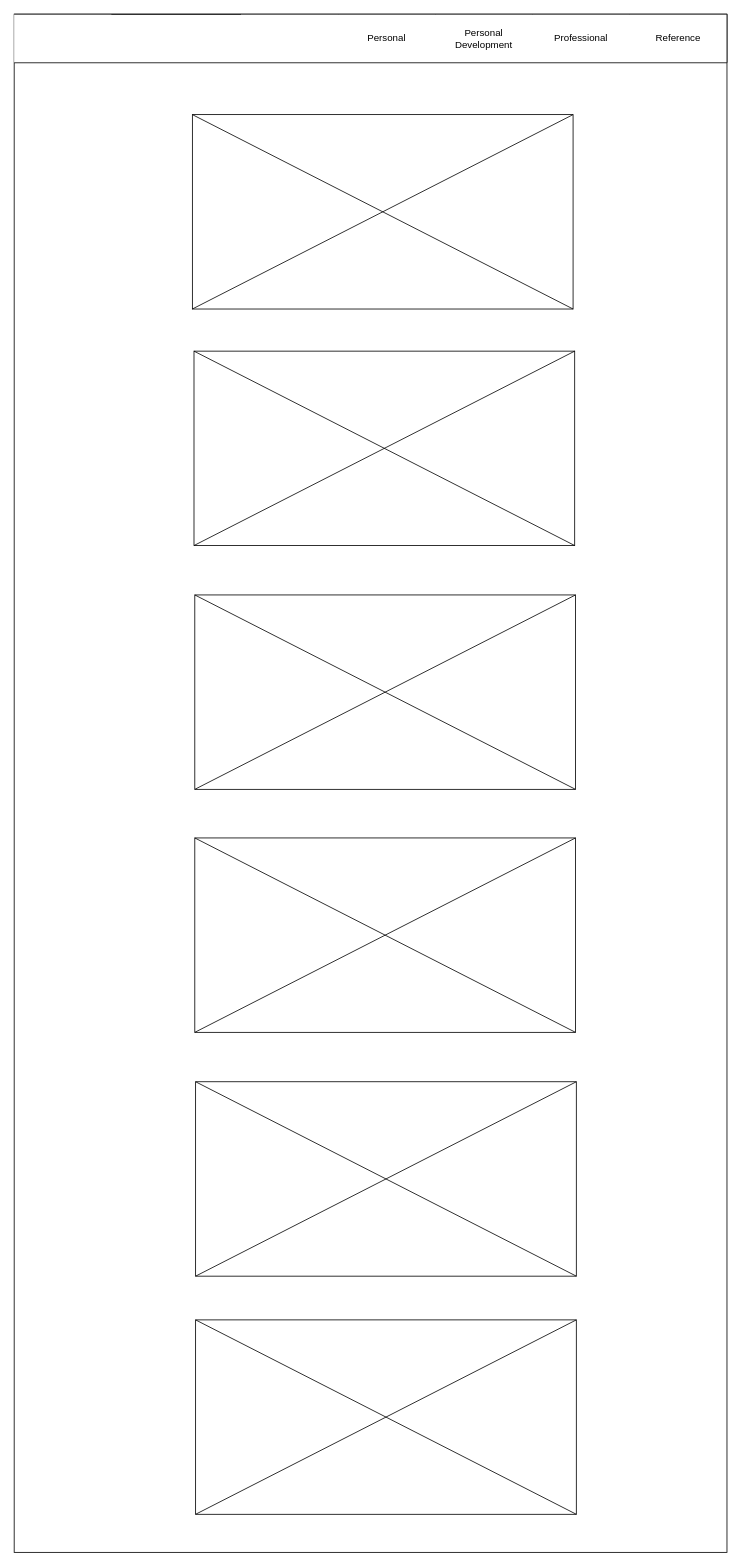
This 742x1567 diagram has some shape labels left out. Each missing label, with the centre of its shape:
"Home" goes at point (289, 38).
"Storyboard" goes at point (62, 38).
